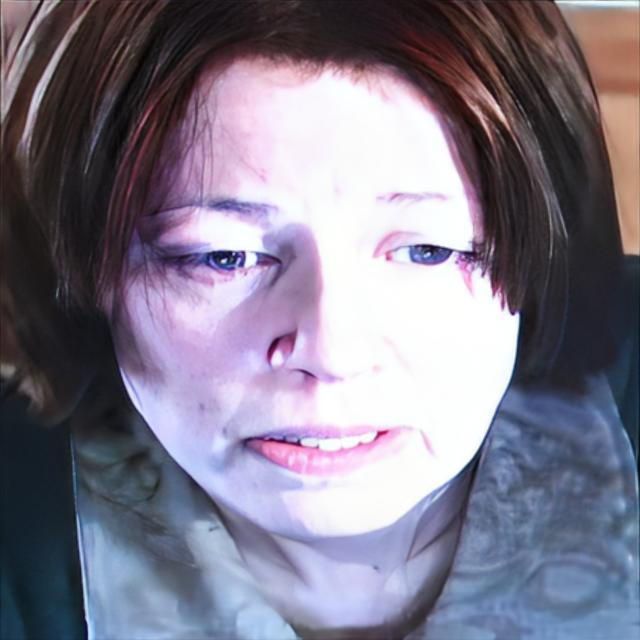sad: (107, 37, 520, 545)
